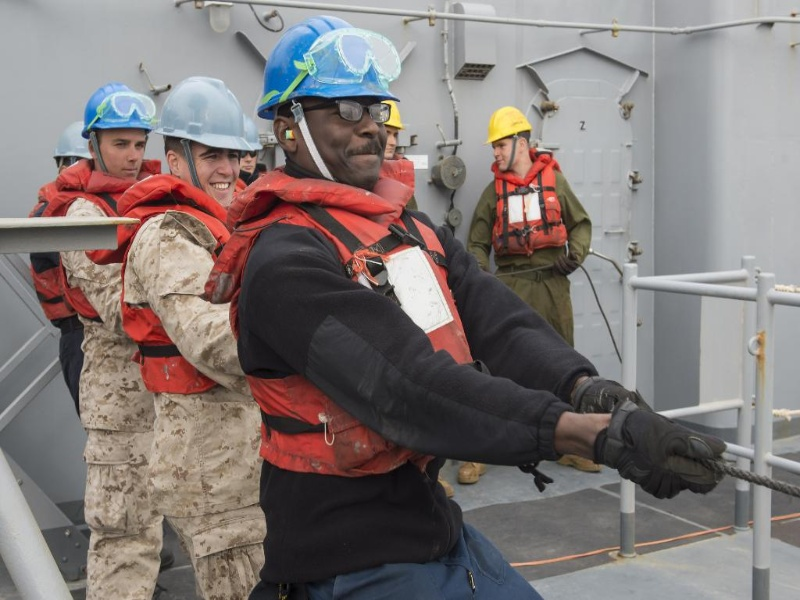helmet: (261, 14, 396, 100), (159, 75, 258, 150), (84, 82, 152, 131), (56, 121, 96, 165), (487, 107, 533, 143)
jacket: (246, 172, 483, 469), (117, 175, 239, 383), (36, 166, 101, 321), (487, 157, 569, 252)
